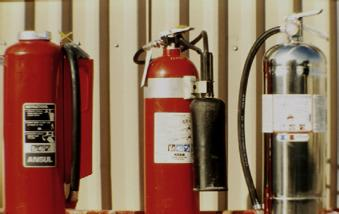Fire Extinguisher: (233, 18, 338, 214), (124, 23, 231, 214), (6, 15, 86, 214)
